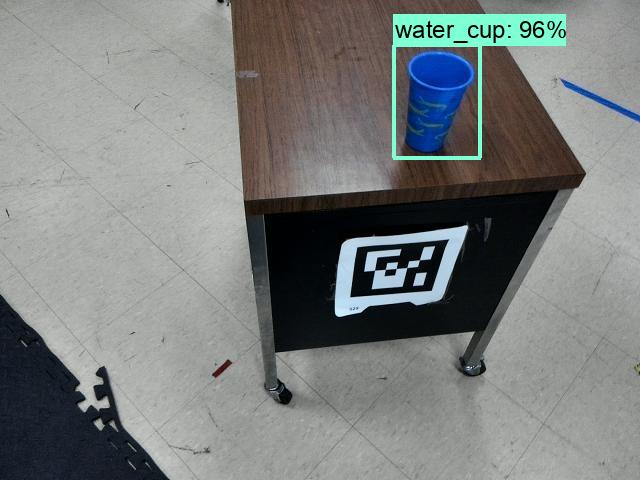water_cup: (390, 44, 480, 162)
